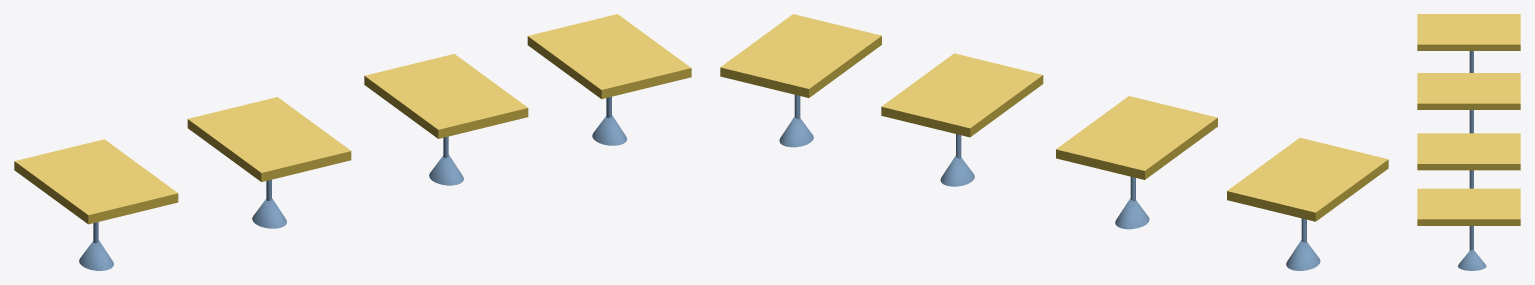
The model's file is mesaas.obj.
The picture shows the model from 3 angles, left to right: view 1: azimuth 30°, elevation 25°; view 2: azimuth 150°, elevation 25°; view 3: azimuth 270°, elevation 25°; orthographic projection. The views are drawn at different scales.
Visible parts, largest first — view 1: polySurface13group8; view 2: polySurface13group8; view 3: polySurface13group8.
Part boxes in pixels (x1,y1,x2,y2): polySurface13group8: [14, 14, 691, 270]; polySurface13group8: [720, 14, 1388, 270]; polySurface13group8: [1417, 14, 1520, 270].
Bounding box in the file's own units: 12.75 × 1.77 × 2.71.
4 materials, 4 textured.
